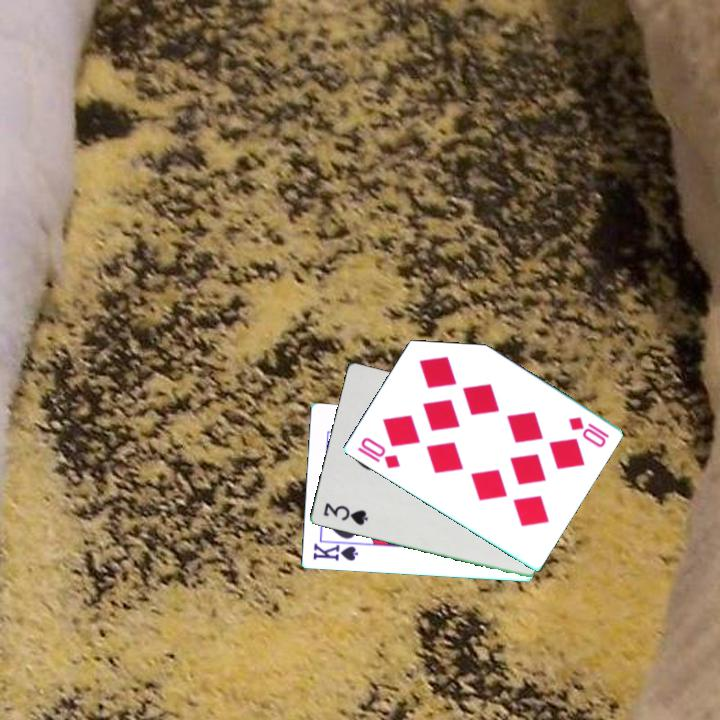10d: (354, 434, 403, 472), (564, 413, 612, 451)
3s: (319, 499, 371, 529)
Ks: (309, 540, 361, 564)
